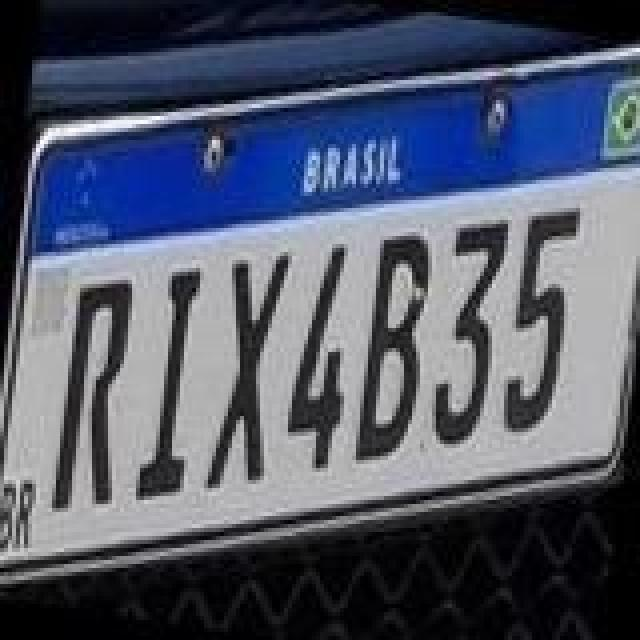3: (426, 208, 510, 448)
4: (276, 240, 364, 472)
5: (496, 194, 584, 438)
B: (346, 230, 438, 474)
I: (134, 258, 218, 510)
R: (48, 270, 144, 522)
X: (200, 242, 296, 494)
